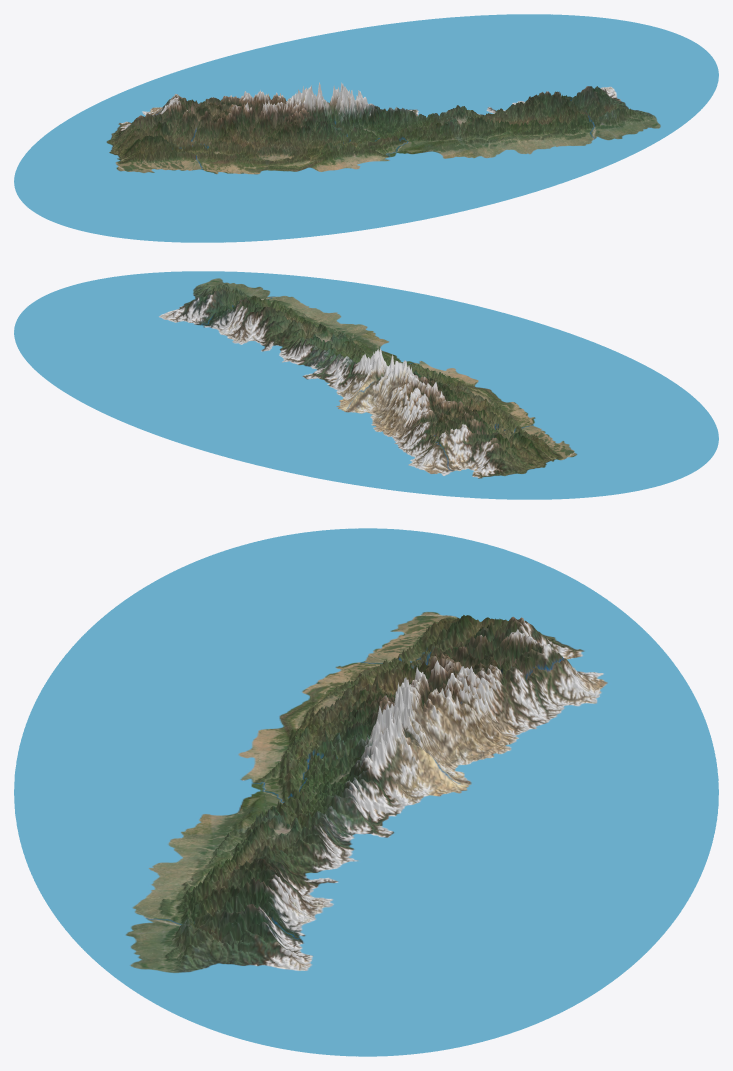
File: NPL-previa-terrain.glb
3 views of the same model, one above another, from view 1: azimuth 30°, elevation 25°; view 2: azimuth 150°, elevation 25°; view 3: azimuth 270°, elevation 25° (orthographic). The views are drawn at different scales.
Visible parts, largest first — view 1: Nepal; view 2: Nepal; view 3: Nepal.
Part boxes in pixels (x1,y1,x2,y2): Nepal: [14, 14, 718, 242]; Nepal: [14, 271, 718, 499]; Nepal: [14, 528, 718, 1056].
Bounding box in the file's own units: 2.58 × 0.1778 × 1.46.
1 material, 1 textured.
